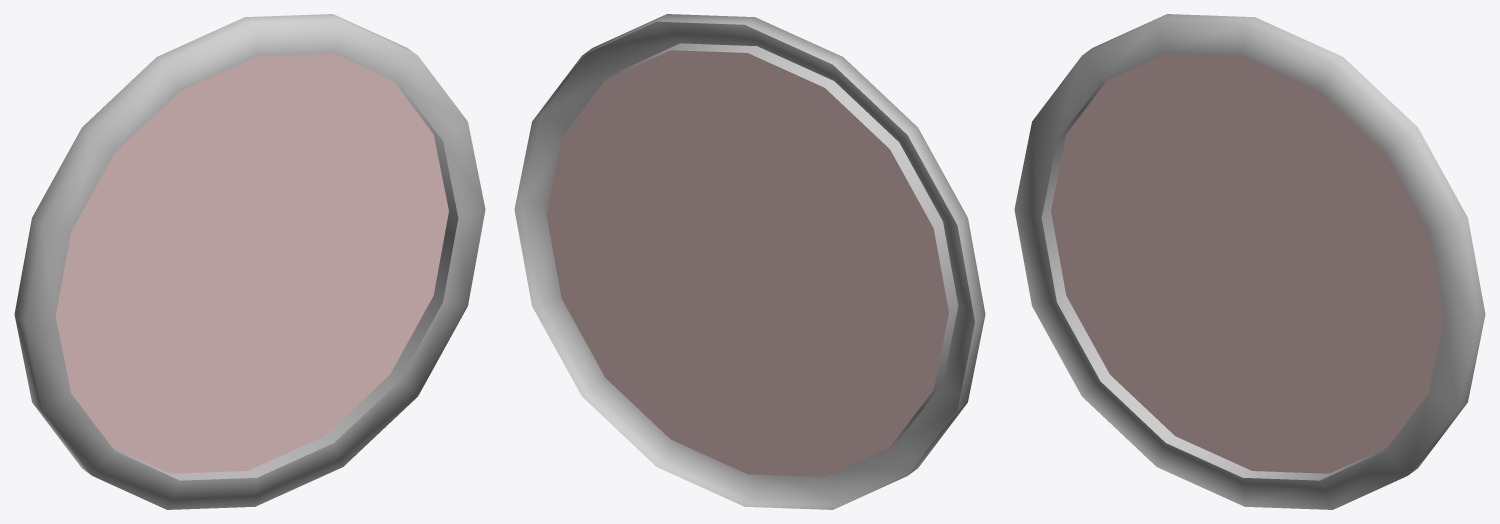
The model's file is painting_round.obj.
The picture shows the model from 3 angles, left to right: view 1: azimuth 30°, elevation 25°; view 2: azimuth 150°, elevation 25°; view 3: azimuth 330°, elevation 25°; orthographic projection.
Parts seen in each view (by area): view 1: Cylinder.129; view 2: Cylinder.129; view 3: Cylinder.129.
Boxes of the visible parts, <box> form: Cylinder.129: <box>14,14,485,509</box>; Cylinder.129: <box>514,14,985,509</box>; Cylinder.129: <box>1014,14,1485,509</box>.
Size of the model in its own units: 0.6848 by 0.6848 by 0.0317.
